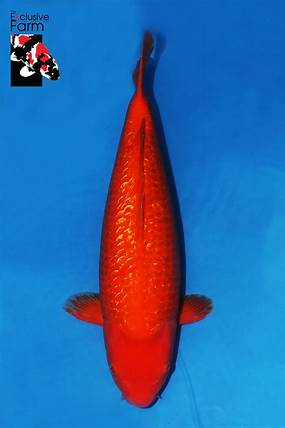red: (62, 27, 215, 408)
